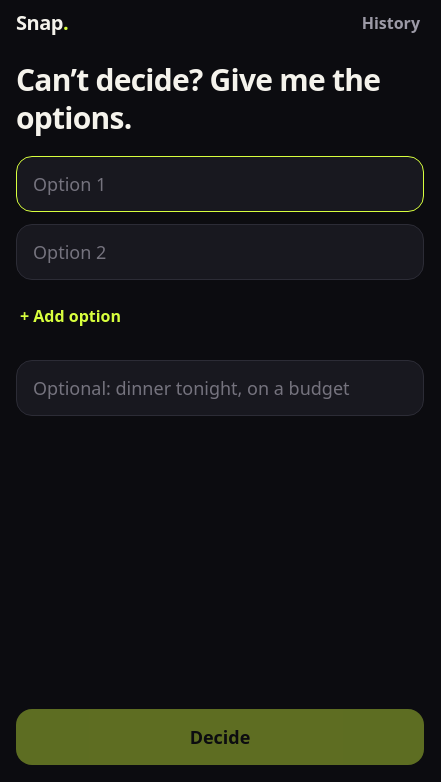
it: small decision loop › takes two taps after typing: Decide, then Going with it
Type "pizza" into the field labelled "Option 1". click: (220, 184)
box: [16,156,424,212]
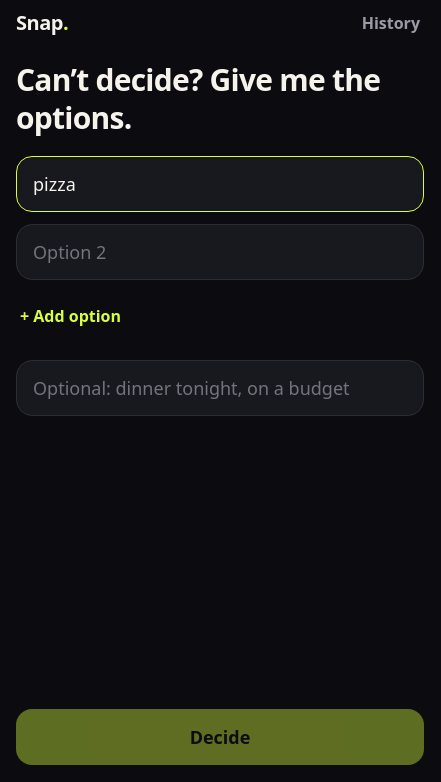
Type "sushi" into the field labelled "Option 2". click: (220, 252)
box: [16,224,424,280]
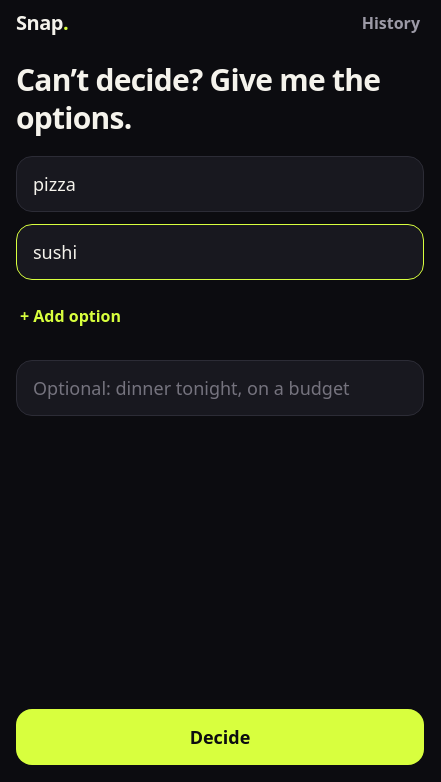
Type "dinner tonight" into the field named "Context (optional)". click: (220, 388)
box: [16,360,424,416]
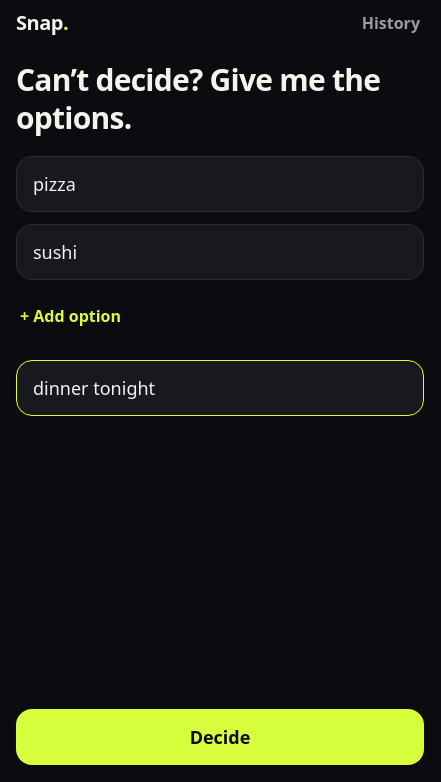
Click the button "Decide". click: click(220, 737)
box: [16,709,424,765]
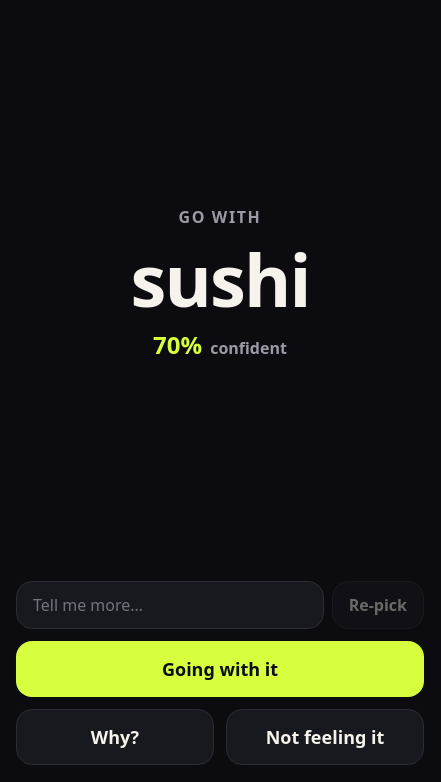
Check: the heading with test id "pick" reads "sushi", box [130,230,310,328]
Check: the text with test id "confidence" reads "70%", box [153,328,202,361]
Click the button "Going with it". click: click(220, 669)
box: [16,641,424,697]
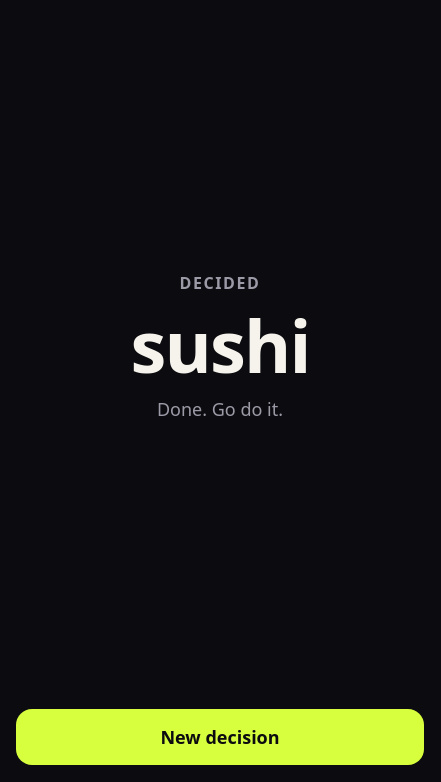
Check: the heading with test id "final-choice" reads "sushi", box [130,296,310,394]
Check: the button "New decision" is shown, box [16,709,424,765]
